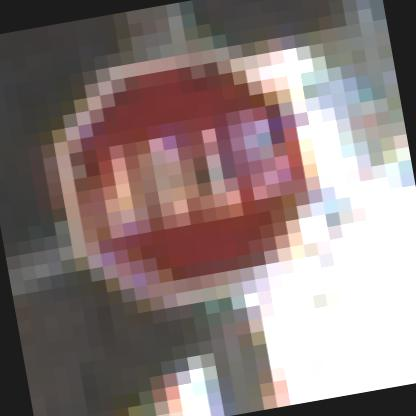stop: (42, 31, 326, 322)
